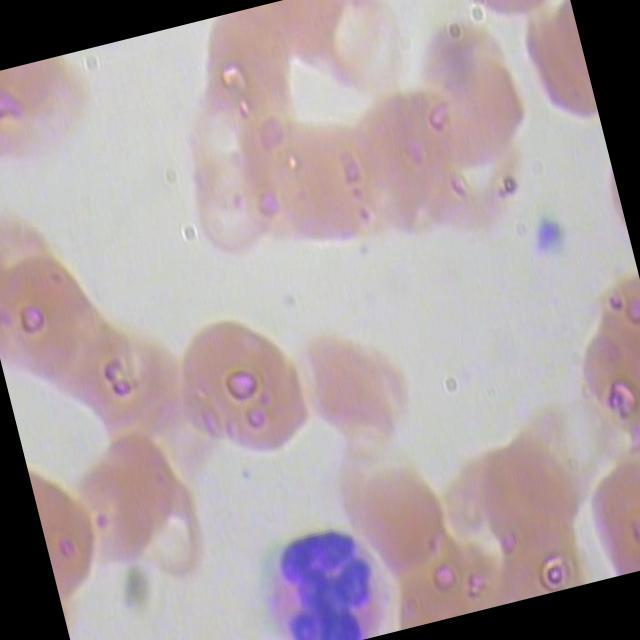Platelets: (522, 202, 588, 271)
RBC: (167, 302, 333, 484), (287, 312, 430, 474), (323, 440, 466, 602), (406, 29, 549, 191), (338, 72, 480, 234), (267, 110, 410, 266), (464, 424, 599, 577), (188, 0, 323, 144), (0, 247, 116, 400), (94, 412, 210, 550), (59, 446, 174, 585), (49, 313, 164, 452), (23, 292, 138, 431), (90, 326, 204, 465), (0, 50, 110, 190), (300, 0, 431, 111), (183, 140, 286, 272), (170, 71, 272, 202), (565, 309, 640, 467), (249, 0, 363, 91), (571, 438, 640, 580), (448, 0, 573, 41)
WBC: (240, 510, 406, 640)
